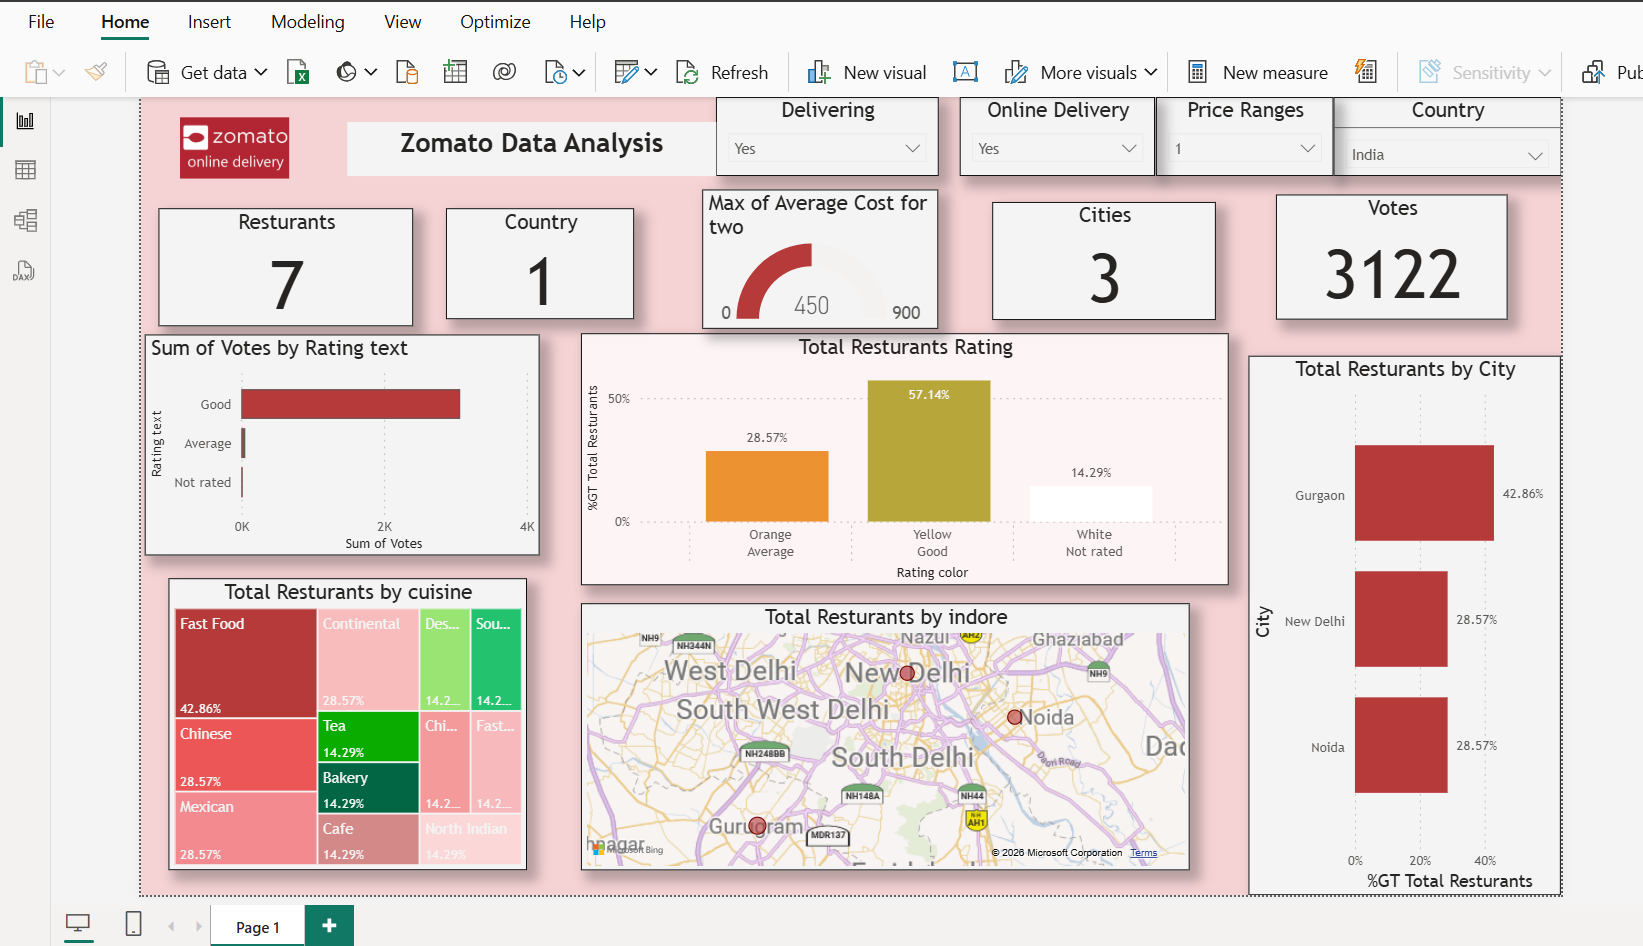

What the dashboard file says about the page in this screenshot:
{"tool":"powerbi","page":{"name":"Page 1","canvas":[1280,720],"ordinal":0},"visuals":[{"type":"slicer","title":"Country","fields":{"Values":["zomato.Country Names"]},"box":[1074.9,0,205.4,70.9],"z":0},{"type":"slicer","title":"Price Ranges","fields":{"Values":["zomato.Price range"]},"box":[914.7,0,160.2,70.9],"z":1000},{"type":"slicer","title":"Online Delivery","fields":{"Values":["zomato.Has Online delivery"]},"box":[738.6,0,176.1,70.9],"z":2000},{"type":"slicer","title":"Delivering","fields":{"Values":["zomato.Is delivering now"]},"box":[518.5,0,200.5,70.9],"z":3000},{"type":"card","title":"Country","fields":{"Values":["zomato.Total Country"]},"box":[275.1,100.3,170,100.3],"z":4000},{"type":"card","title":"Resturants","fields":{"Values":["zomato.Total Resturants"]},"box":[15.9,100.3,229.9,106.4],"z":5000},{"type":"card","title":"Cities","fields":{"Values":["zomato.Total Cities"]},"box":[767.9,94.2,201.8,106.4],"z":6000},{"type":"card","title":"Votes","fields":{"Values":["Sum(zomato.Votes)"]},"box":[1023.5,88,209.1,112.5],"z":7000},{"type":"clusteredBarChart","title":"Total Resturants by City","fields":{"Category":["zomato.City"],"Y":["zomato.Total Resturants"]},"box":[998.4,233.8,281.6,486.2],"z":8000},{"type":"treemap","title":" Total Resturants by cuisine","fields":{"Group":["zomato.cuisine"],"Values":["zomato.Total Resturants"]},"box":[24.5,434.1,322.8,262.9],"z":9000},{"type":"map","fields":{"Category":["zomato.City"],"Size":["zomato.Total Resturants"]},"box":[396.2,456.1,549.1,240.9],"z":10000},{"type":"columnChart","title":"Total Resturants Rating","fields":{"Category":["zomato.Rating text","zomato.Rating color"],"Y":["zomato.Total Resturants"]},"box":[396.3,213.4,584.1,226.8],"z":11000},{"type":"clusteredBarChart","fields":{"Category":["zomato.Rating text"],"Y":["Sum(zomato.Votes)"]},"box":[3.7,214,355.8,199.3],"z":12000},{"type":"gauge","fields":{"Y":["Max(zomato.Average Cost for two)"]},"box":[506.3,83.2,212.8,126],"z":13000},{"type":"image","box":[24.8,13.5,119.5,65.4],"z":14000},{"type":"textbox","box":[185.9,22,332.6,48.9],"z":15000}]}

Visuals, with their boxes on the page's 1280x720 design canvas (x1, y1, x2, y2). These are canvas units, not pixel positions in the 1643x946 screenshot, which may show the page scaled, cropped or inside an application window:
"Country" slicer: select_region(1075, 0, 1280, 71)
"Price Ranges" slicer: select_region(915, 0, 1075, 71)
"Online Delivery" slicer: select_region(739, 0, 915, 71)
"Delivering" slicer: select_region(518, 0, 719, 71)
"Country" card: select_region(275, 100, 445, 201)
"Resturants" card: select_region(16, 100, 246, 207)
"Cities" card: select_region(768, 94, 970, 201)
"Votes" card: select_region(1024, 88, 1233, 200)
"Total Resturants by City" clusteredBarChart: select_region(998, 234, 1280, 720)
" Total Resturants by cuisine" treemap: select_region(24, 434, 347, 697)
map - zomato.City x zomato.Total Resturants: select_region(396, 456, 945, 697)
"Total Resturants Rating" columnChart: select_region(396, 213, 980, 440)
clusteredBarChart - zomato.Rating text x Sum(zomato.Votes): select_region(4, 214, 360, 413)
gauge - Max(zomato.Average Cost for two): select_region(506, 83, 719, 209)
image: select_region(25, 14, 144, 79)
textbox: select_region(186, 22, 518, 71)
